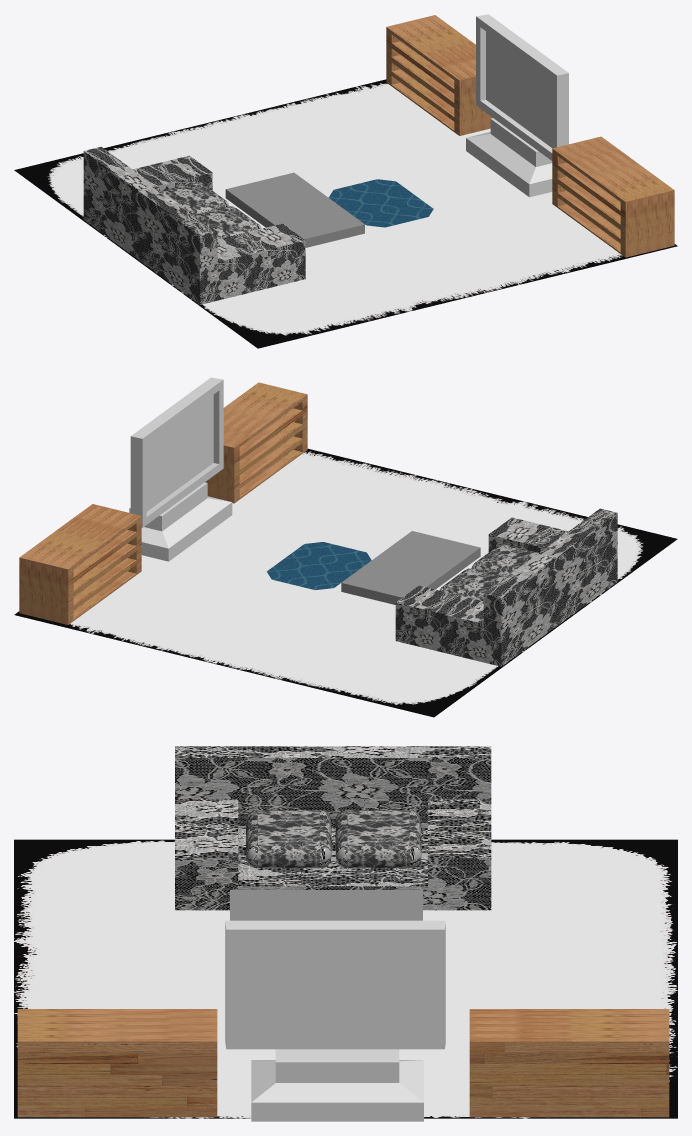
Rendered from lv_room.FBX.
3 renders of one model, top to bottom at view 1: azimuth 30°, elevation 25°; view 2: azimuth 150°, elevation 25°; view 3: azimuth 270°, elevation 25°, orthographic. The views are drawn at different scales.
Visible parts, largest first — view 1: Plane001, Box001, Box011, Box004, Box009, Box010, Plane004, Box014, Box015; view 2: Plane001, Box001, Box011, Box009, Box004, Box010, Plane004, Box015, Box014; view 3: Plane001, Box011, Box001, Box004, Box009, Box010, Box014, Box015.
Part boxes in pixels (bbox=[...]): Plane001: bbox=[14, 79, 677, 348]; Box001: bbox=[83, 146, 305, 304]; Box011: bbox=[466, 14, 568, 197]; Box004: bbox=[552, 136, 674, 257]; Box009: bbox=[386, 15, 492, 135]; Box010: bbox=[225, 172, 364, 247]; Plane004: bbox=[328, 179, 433, 227]; Box014: bbox=[162, 182, 229, 214]; Box015: bbox=[195, 206, 261, 239]; Plane001: bbox=[14, 448, 677, 717]; Box001: bbox=[395, 508, 617, 666]; Box011: bbox=[129, 377, 232, 561]; Box009: bbox=[19, 504, 141, 624]; Box004: bbox=[205, 382, 307, 503]; Box010: bbox=[341, 531, 480, 604]; Plane004: bbox=[266, 542, 371, 590]; Box015: bbox=[472, 544, 538, 576]; Box014: bbox=[439, 568, 505, 601]; Plane001: bbox=[14, 839, 677, 1118]; Box011: bbox=[225, 920, 445, 1121]; Box001: bbox=[175, 746, 491, 910]; Box004: bbox=[17, 1009, 217, 1117]; Box009: bbox=[469, 1009, 669, 1117]; Box010: bbox=[230, 890, 422, 920]; Box014: bbox=[335, 810, 421, 868]; Box015: bbox=[246, 810, 331, 868].
Bounding box in the file's own units: 141 × 39.96 × 141.
Materials: 5 (4 with a texture image).
